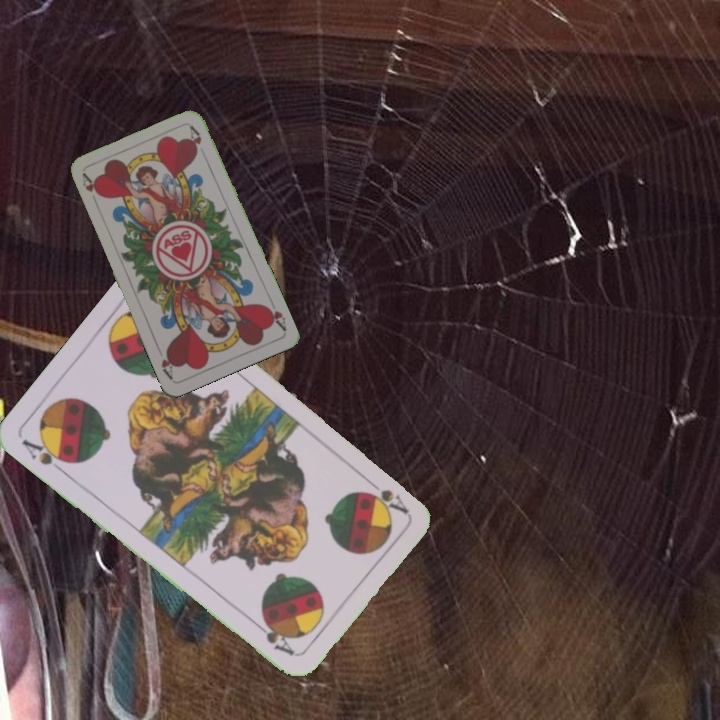HA: (78, 170, 103, 209), (260, 300, 289, 333)
SA: (17, 434, 74, 477), (360, 473, 410, 516)
